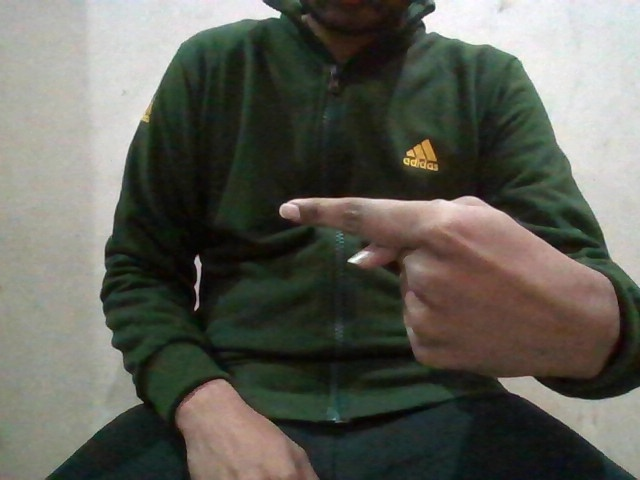G: (270, 186, 615, 380)
